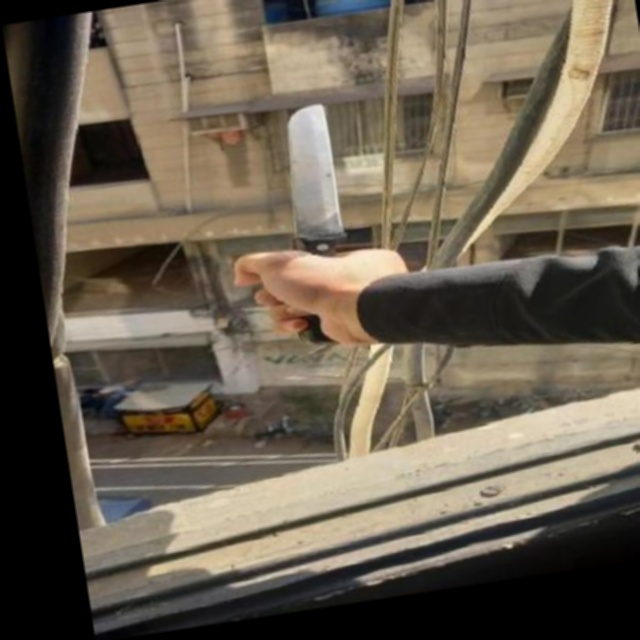Sharp-Object: (265, 101, 361, 348)
